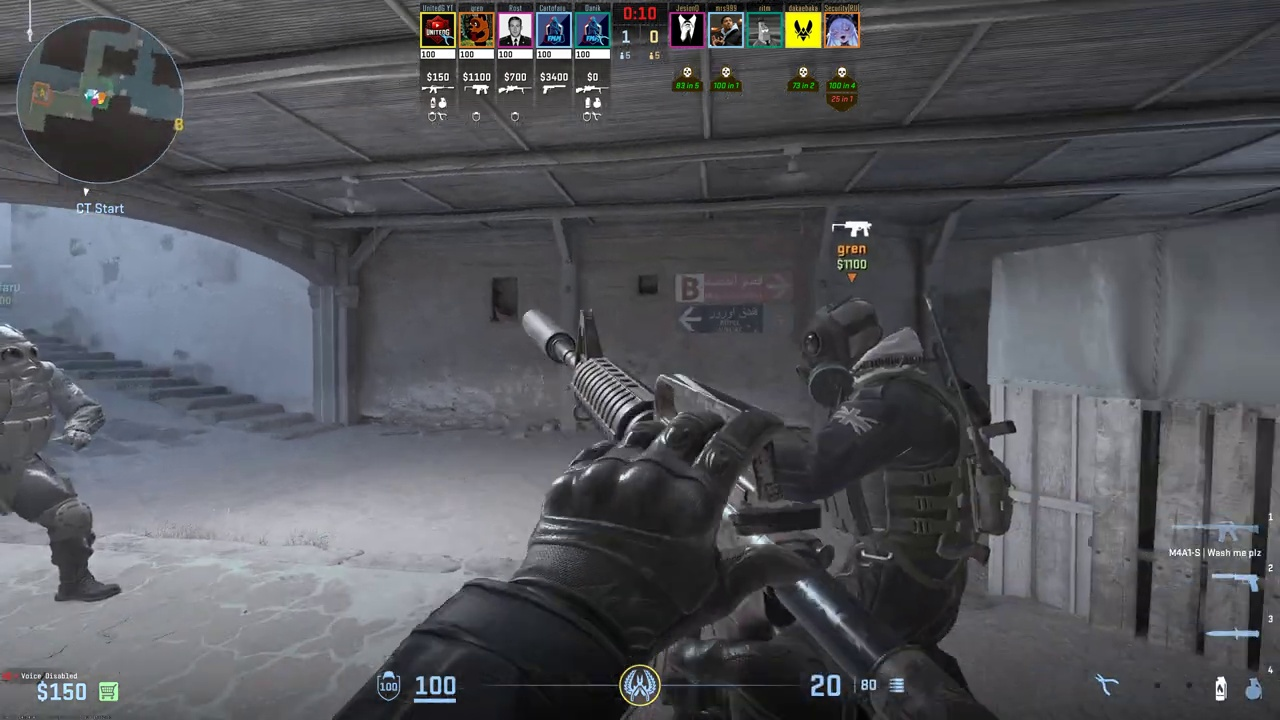CT: (804, 295, 963, 684), (0, 321, 123, 602)
